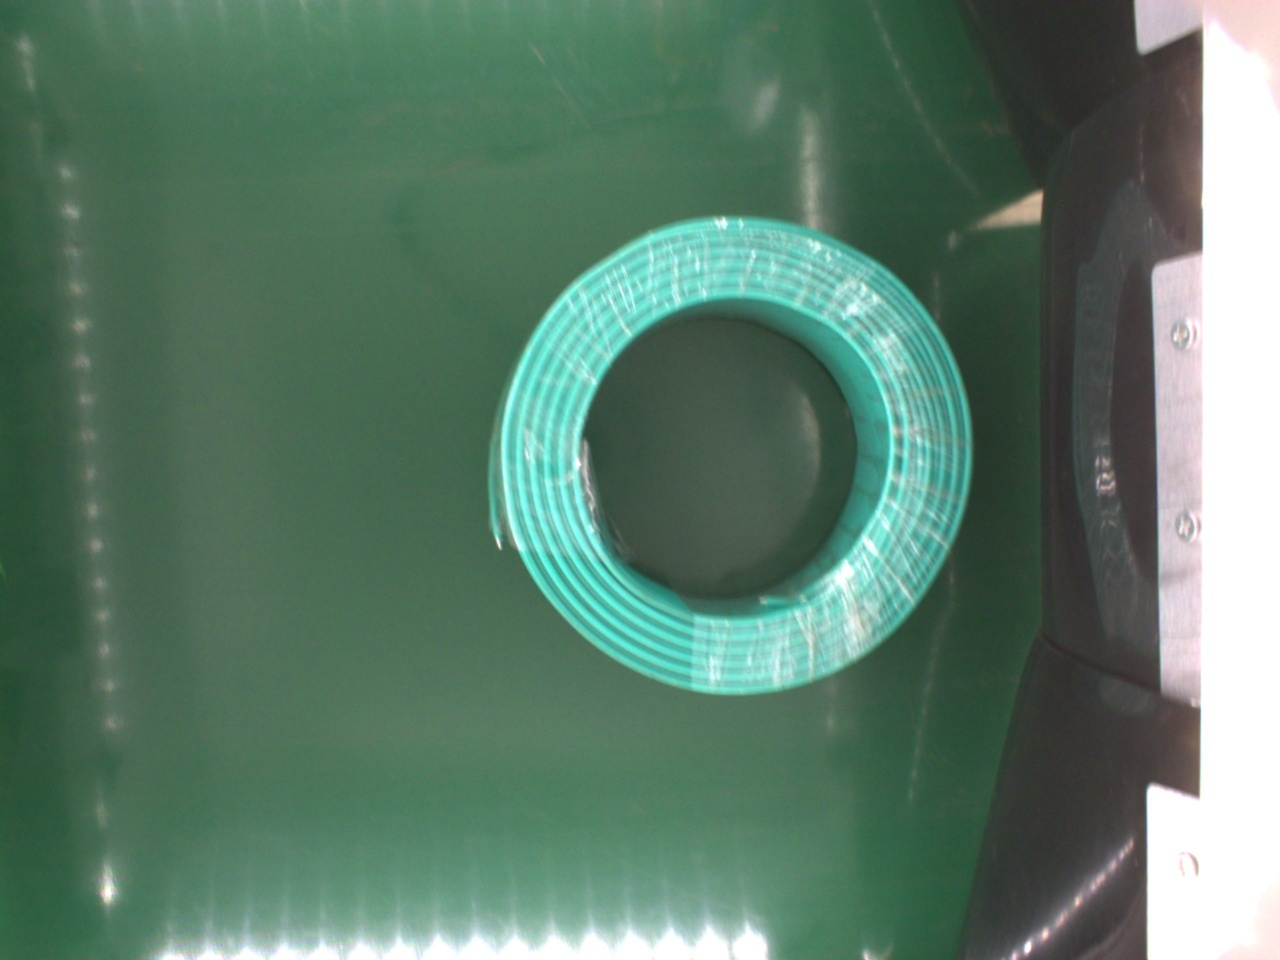green: (489, 210, 976, 698)
